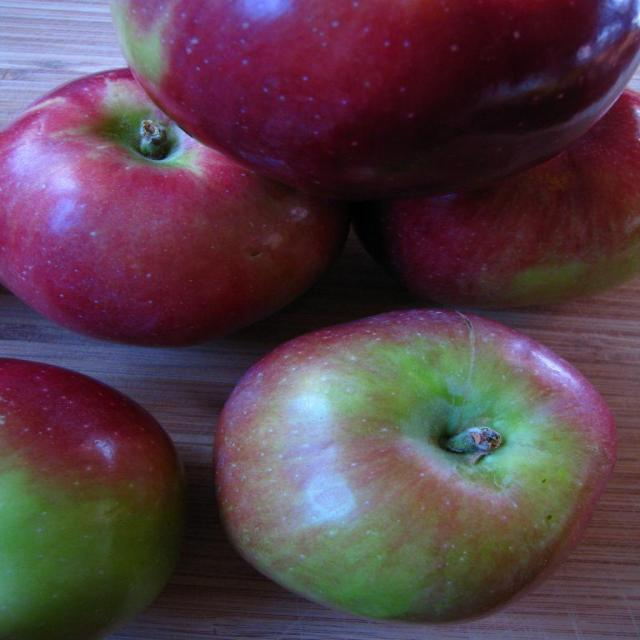Apple pie: (198, 307, 632, 623), (108, 0, 639, 202), (0, 64, 342, 344), (350, 88, 640, 314), (0, 350, 192, 639)
